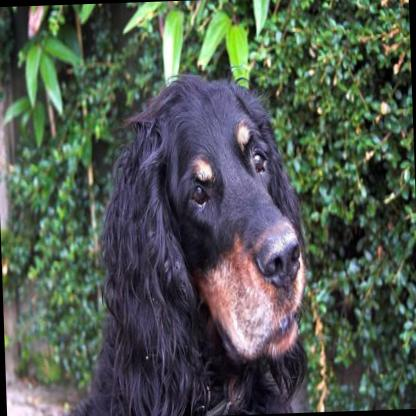Gordon_setter: (53, 65, 315, 416)
